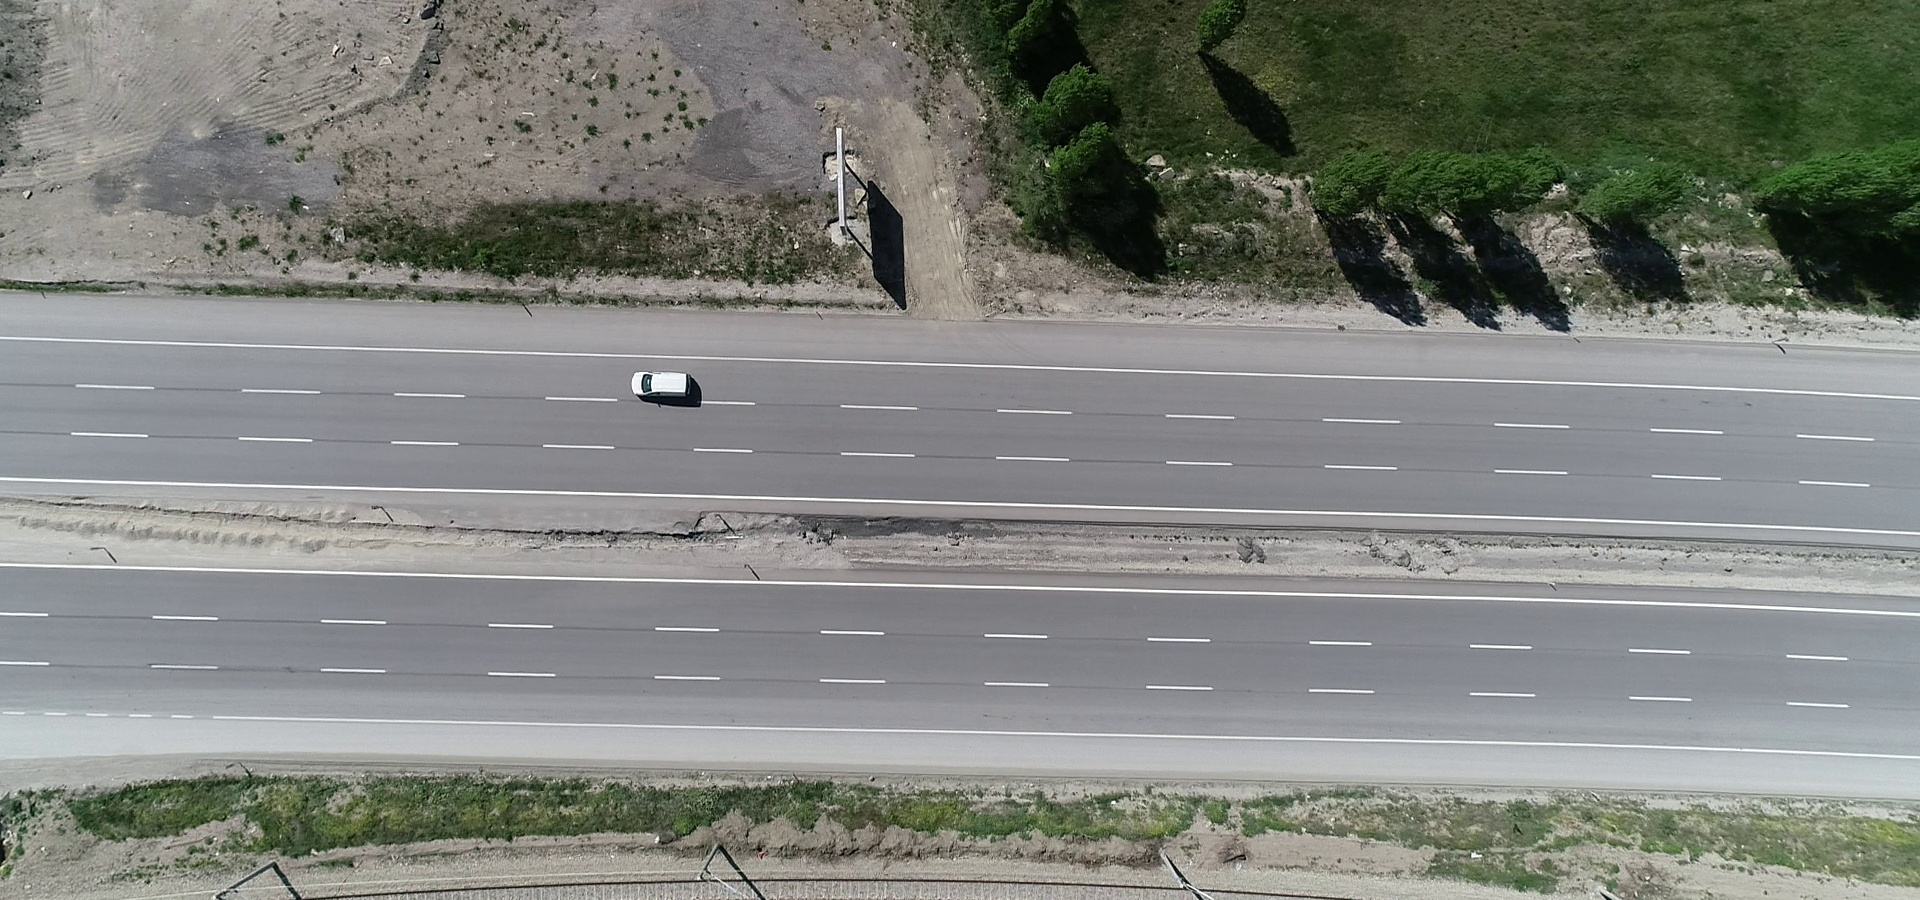araba: (626, 365, 703, 407)
